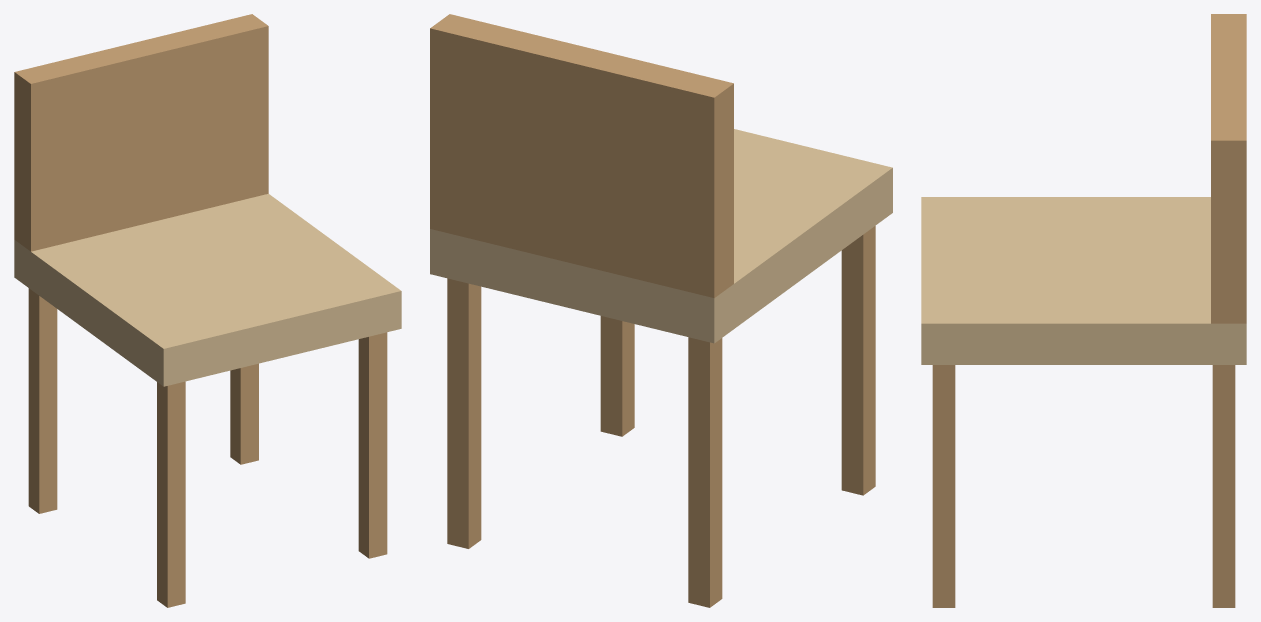
File: oak-chair.glb
3 views of the same model, side by side, from view 1: azimuth 30°, elevation 25°; view 2: azimuth 150°, elevation 25°; view 3: azimuth 270°, elevation 25° (orthographic). The views are drawn at different scales.
Bounding box in the file's own units: 0.46 × 0.8 × 0.5.
